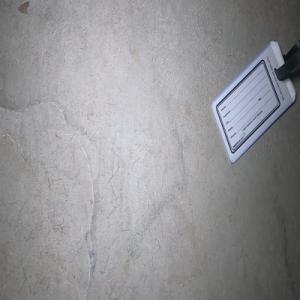LuggageTag: (209, 39, 300, 167)
